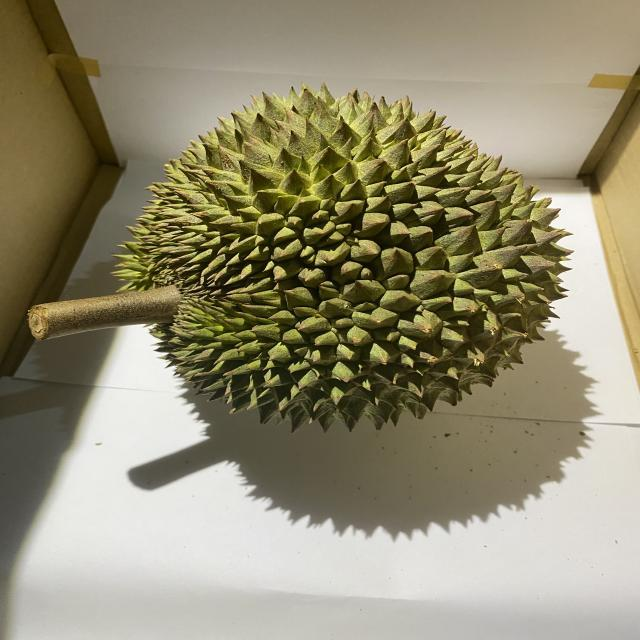immature: (112, 80, 576, 438)
